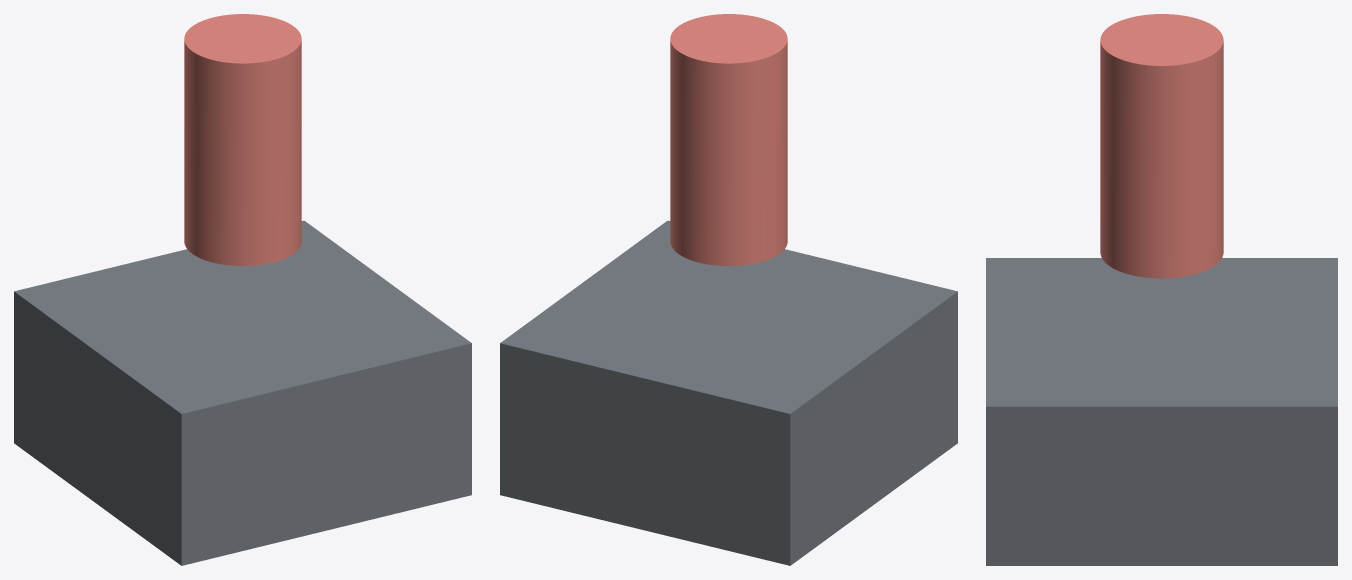
File: web.glb
3 views of the same model, side by side, from view 1: azimuth 30°, elevation 25°; view 2: azimuth 150°, elevation 25°; view 3: azimuth 270°, elevation 25° (orthographic). The views are drawn at different scales.
Parts seen in each view (by area): view 1: body_00, body_01; view 2: body_00, body_01; view 3: body_00, body_01.
Boxes of the visible parts, left/top/right/bottom form: body_00: left=14, top=220, right=471, bottom=565; body_01: left=184, top=14, right=301, bottom=265; body_00: left=500, top=220, right=957, bottom=565; body_01: left=670, top=14, right=787, bottom=265; body_00: left=986, top=258, right=1337, bottom=565; body_01: left=1100, top=14, right=1223, bottom=278.
Bounding box in the file's own units: 0.006 × 0.0085 × 0.006.
